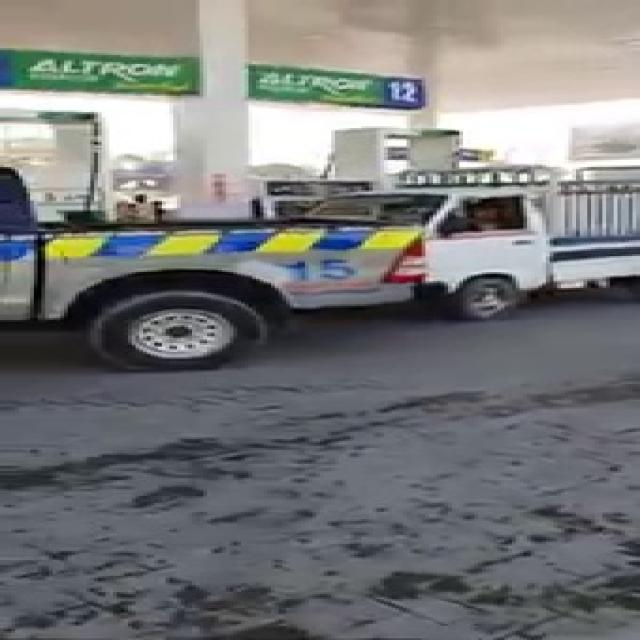police: (0, 168, 444, 364)
